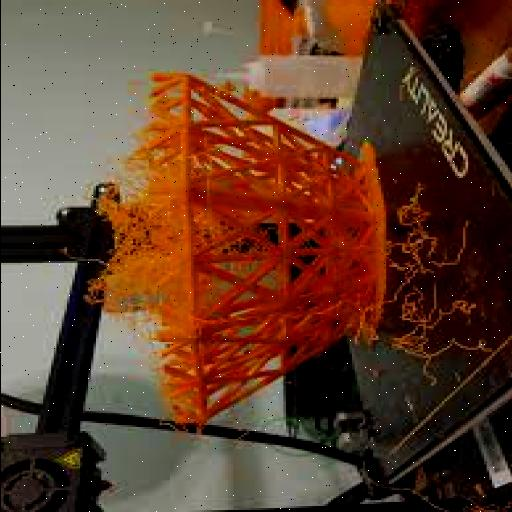spaghetti: (348, 207, 474, 371), (88, 149, 162, 365), (194, 200, 236, 260), (161, 359, 203, 414)
